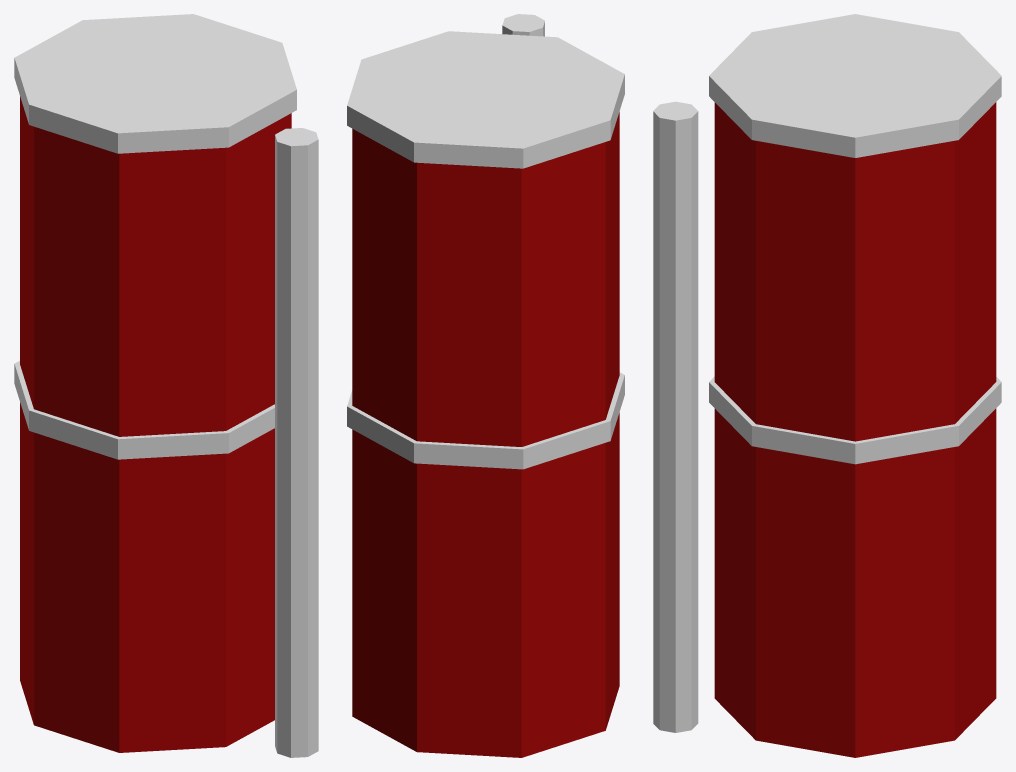
File: silo.gltf
3 renders of one model, left to right at view 1: azimuth 30°, elevation 25°; view 2: azimuth 150°, elevation 25°; view 3: azimuth 270°, elevation 25°, orthographic.
Visible parts, largest first — view 1: Cylinder, Cylinder.002, Cylinder.006, Cylinder.003; view 2: Cylinder, Cylinder.002, Cylinder.003, Cylinder.006; view 3: Cylinder, Cylinder.002, Cylinder.006, Cylinder.003.
Boxes of the visible parts, x1,y1,x2,y2 form: Cylinder: (20,96,291,752); Cylinder.002: (14,14,296,153); Cylinder.006: (275,128,318,757); Cylinder.003: (14,360,274,459); Cylinder: (352,112,619,757); Cylinder.002: (347,31,624,168); Cylinder.003: (347,372,624,469); Cylinder.006: (502,14,544,36); Cylinder: (714,102,996,757); Cylinder.002: (709,14,1001,157); Cylinder.006: (653,101,698,732); Cylinder.003: (709,376,1001,464).
Bounding box in the file's own units: 2.6 × 6.1 × 3.1.
